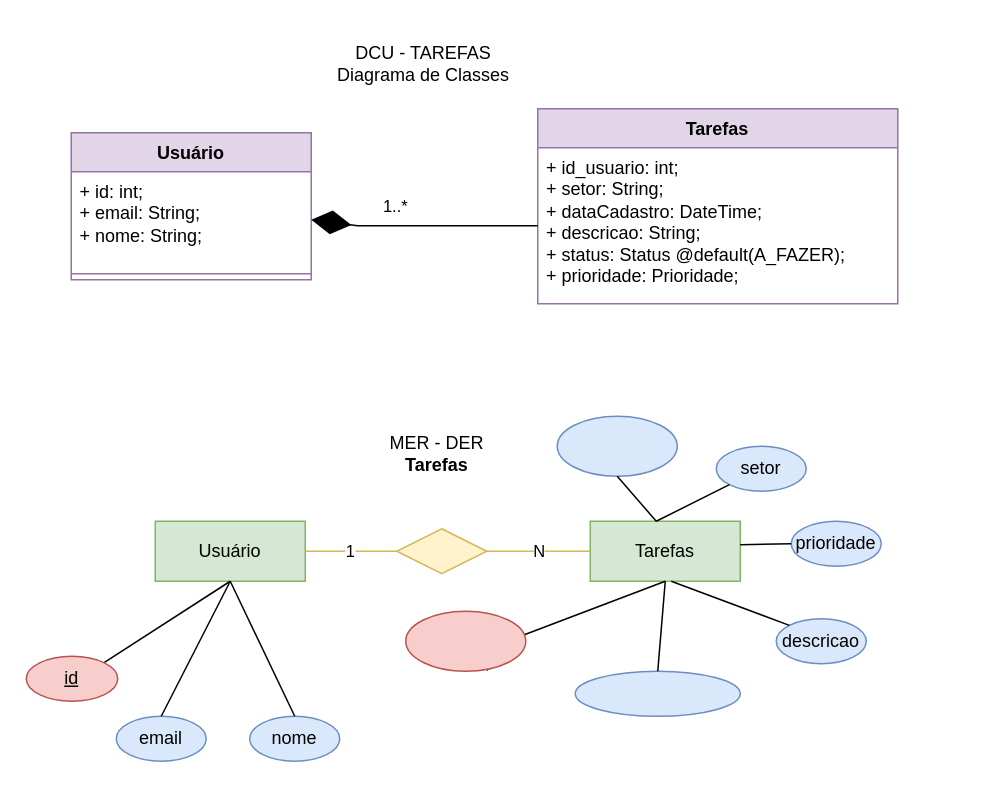
This 998x788 diagram has some shape labels left out. The box of each missing label's shape, as (x1, y1, x2, y2) in pixels:
armazena: (395, 527, 487, 574)
dataCadastro: (574, 670, 740, 716)
id_usuario: (404, 610, 526, 671)
status: (556, 415, 677, 476)
